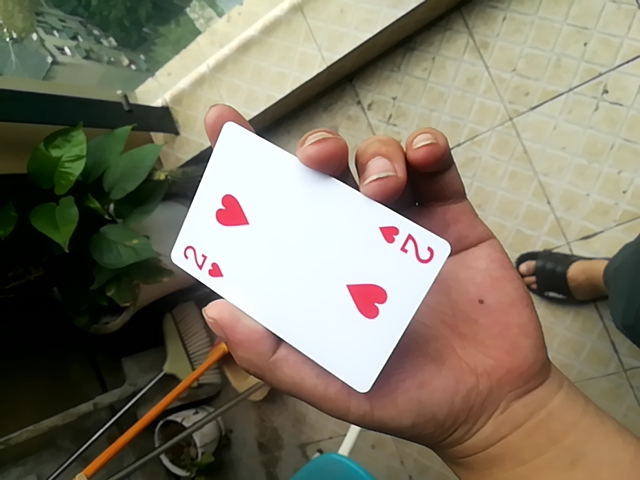hx 2: (162, 116, 444, 398)
